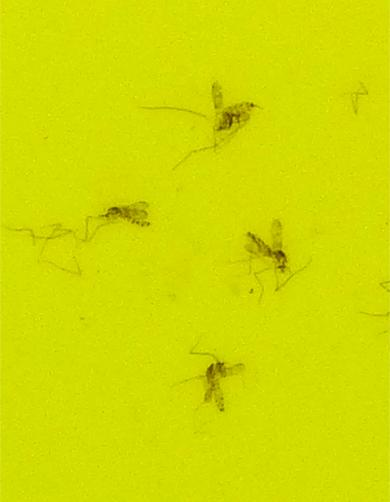Nematocera: (246, 229, 290, 273), (215, 100, 257, 135), (100, 201, 149, 230), (202, 357, 233, 402)
